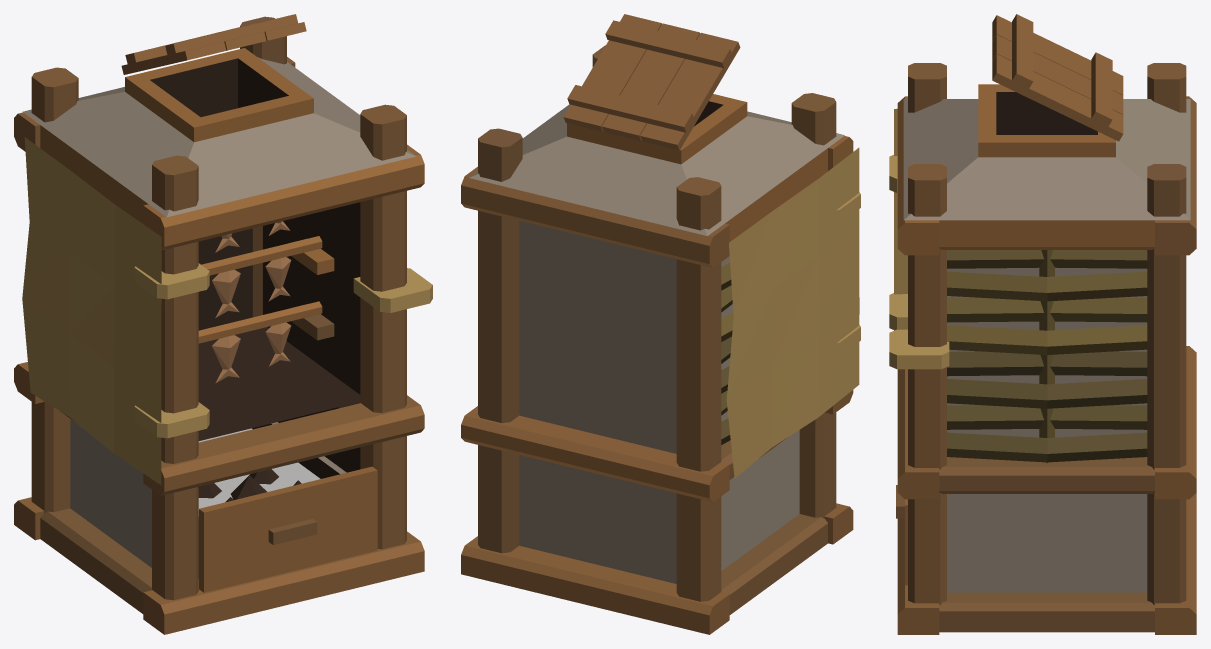
Rendered from controllable-food-smoker-aac206.glb.
3 views of the same model, side by side, from view 1: azimuth 30°, elevation 25°; view 2: azimuth 150°, elevation 25°; view 3: azimuth 270°, elevation 25° (orthographic). The views are drawn at different scales.
Visible parts, largest first — view 1: frame, flap-hide, drawer-body, vent-lid, food-mesh, rails-mesh; view 2: frame, flap-hide, vent-lid; view 3: frame, vent-lid, flap-hide, drawer-body.
Boxes of the visible parts, bbox=[...] form: frame: bbox=[14, 16, 432, 634]; flap-hide: bbox=[22, 137, 161, 484]; drawer-body: bbox=[198, 422, 377, 592]; vent-lid: bbox=[121, 14, 306, 74]; food-mesh: bbox=[212, 221, 291, 383]; rails-mesh: bbox=[198, 236, 322, 343]; frame: bbox=[461, 45, 860, 634]; flap-hide: bbox=[726, 147, 859, 478]; vent-lid: bbox=[563, 14, 740, 150]; frame: bbox=[889, 63, 1196, 634]; vent-lid: bbox=[992, 14, 1123, 141]; flap-hide: bbox=[894, 108, 907, 330]; drawer-body: bbox=[896, 485, 907, 585].
Bounding box in the file's own units: 1.06 × 1.95 × 1.03.
